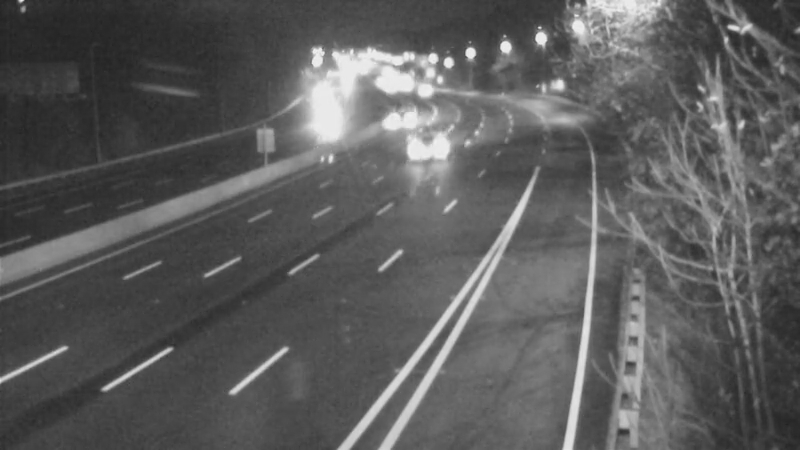vehicle: (403, 67, 453, 117), (363, 62, 413, 112), (380, 93, 430, 143), (399, 121, 449, 171), (303, 101, 353, 151)
